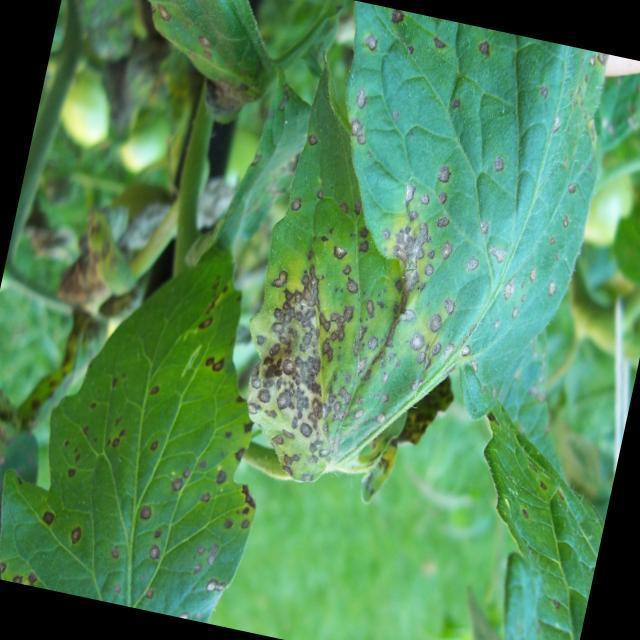Septoria: (0, 232, 283, 624), (287, 0, 615, 282), (240, 238, 459, 471), (101, 0, 235, 68)
